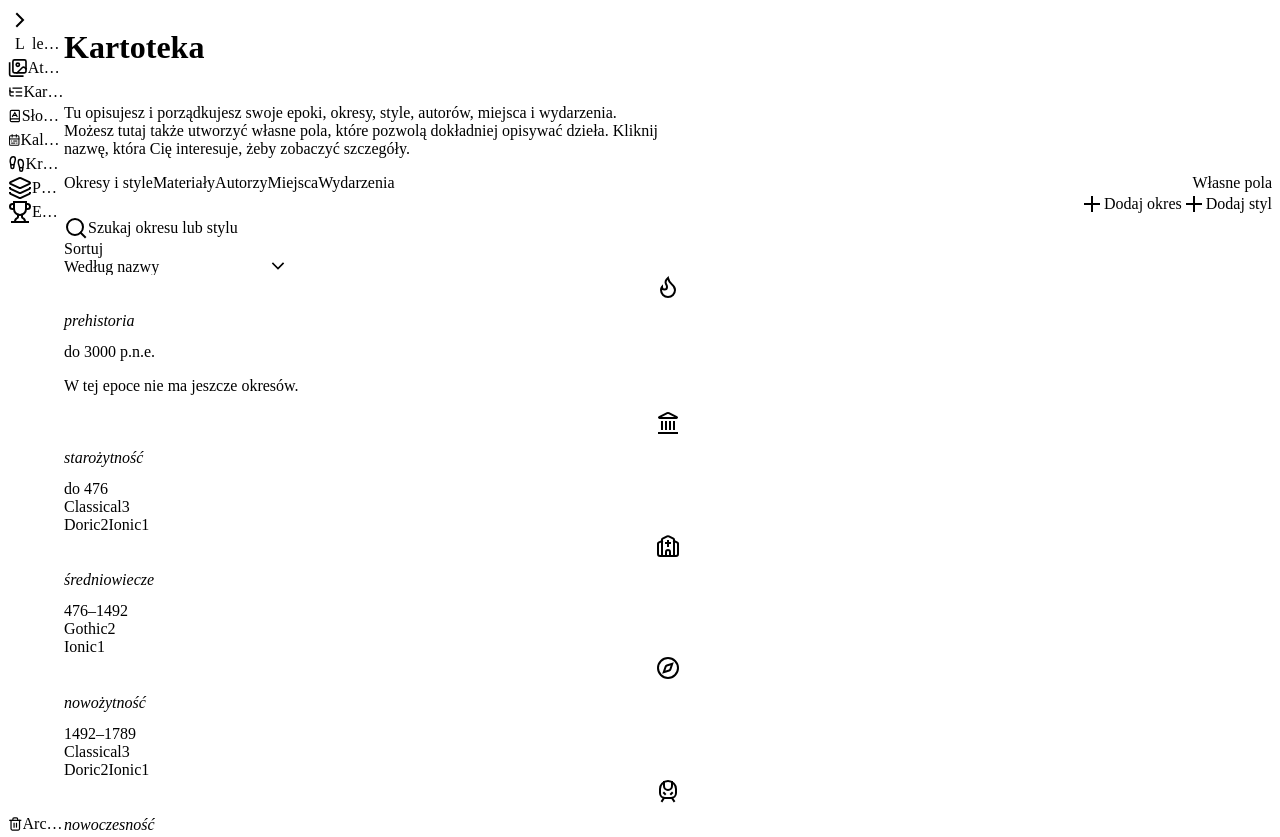
Test case: card index page › says when there are no events yet and still offers adding one
The width and height of the screenshot is (1280, 837).
Click the tab "Wydarzenia": click(356, 183) x1=318 y1=174 x2=394 y2=192
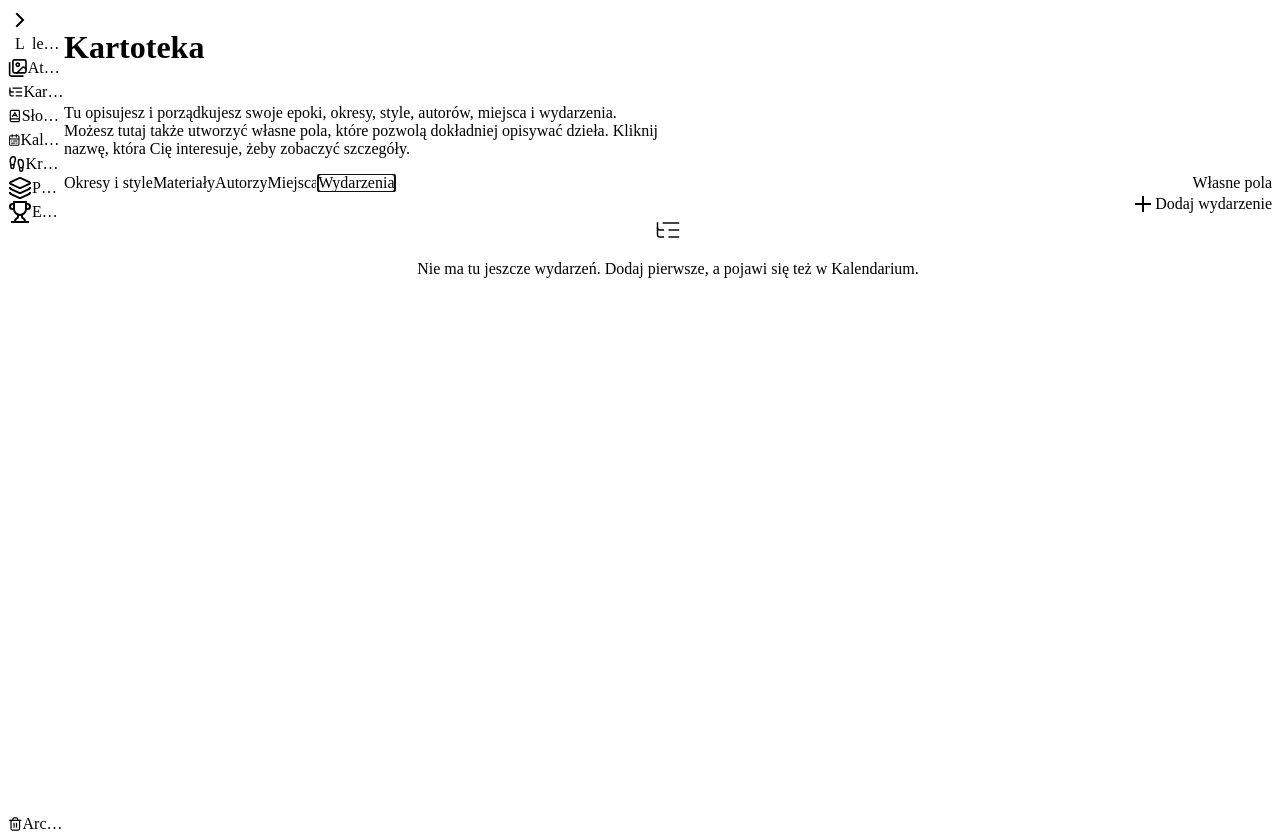
Expected: the link "Dodaj wydarzenie" is shown, x1=1131 y1=192 x2=1272 y2=216
